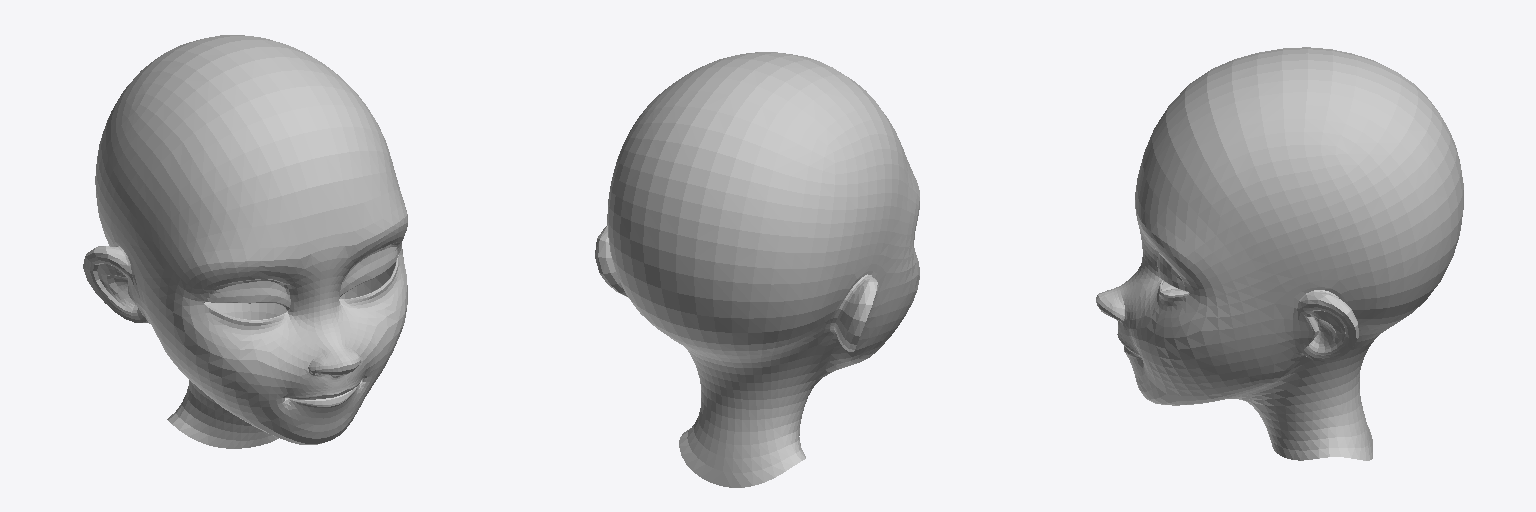
The model's file is pos10.obj.
The picture shows the model from 3 angles: view 1: azimuth 30°, elevation 25°; view 2: azimuth 150°, elevation 25°; view 3: azimuth 270°, elevation 25°; orthographic projection.
Visible parts, largest first — view 1: Mesh; view 2: Mesh; view 3: Mesh.
Boxes of the visible parts, x1=… form: Mesh: x1=83, y1=35, x2=407, y2=448; Mesh: x1=595, y1=52, x2=919, y2=487; Mesh: x1=1096, y1=47, x2=1463, y2=460.
Bounding box in the file's own units: 23.75 × 32.31 × 27.53.